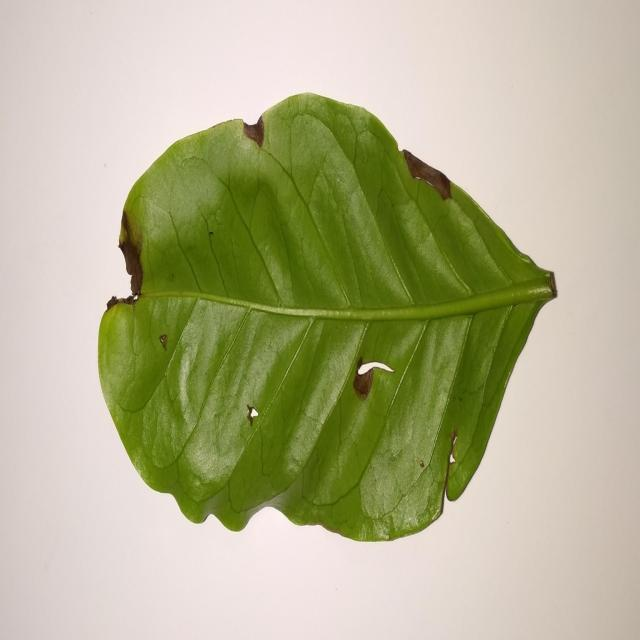Enfermedad-Antracnosis: (96, 93, 558, 545)
